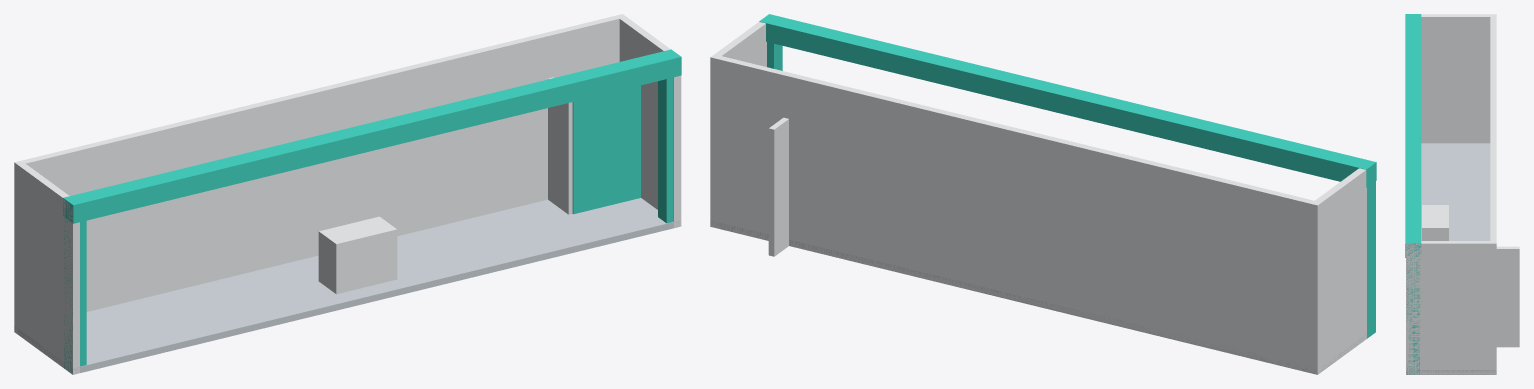
The picture shows the model from 3 angles, left to right: view 1: azimuth 30°, elevation 25°; view 2: azimuth 150°, elevation 25°; view 3: azimuth 270°, elevation 25°; orthographic projection. The views are drawn at different scales.
Parts seen in each view (by area): view 1: Exhibition Booth Concept; view 2: Exhibition Booth Concept; view 3: Exhibition Booth Concept.
Boxes of the visible parts, x1,y1,x2,y2 form: Exhibition Booth Concept: [14, 14, 681, 374]; Exhibition Booth Concept: [710, 14, 1376, 374]; Exhibition Booth Concept: [1405, 14, 1519, 374].
Bounding box in the file's own units: 12 × 3.2 × 2.52.
